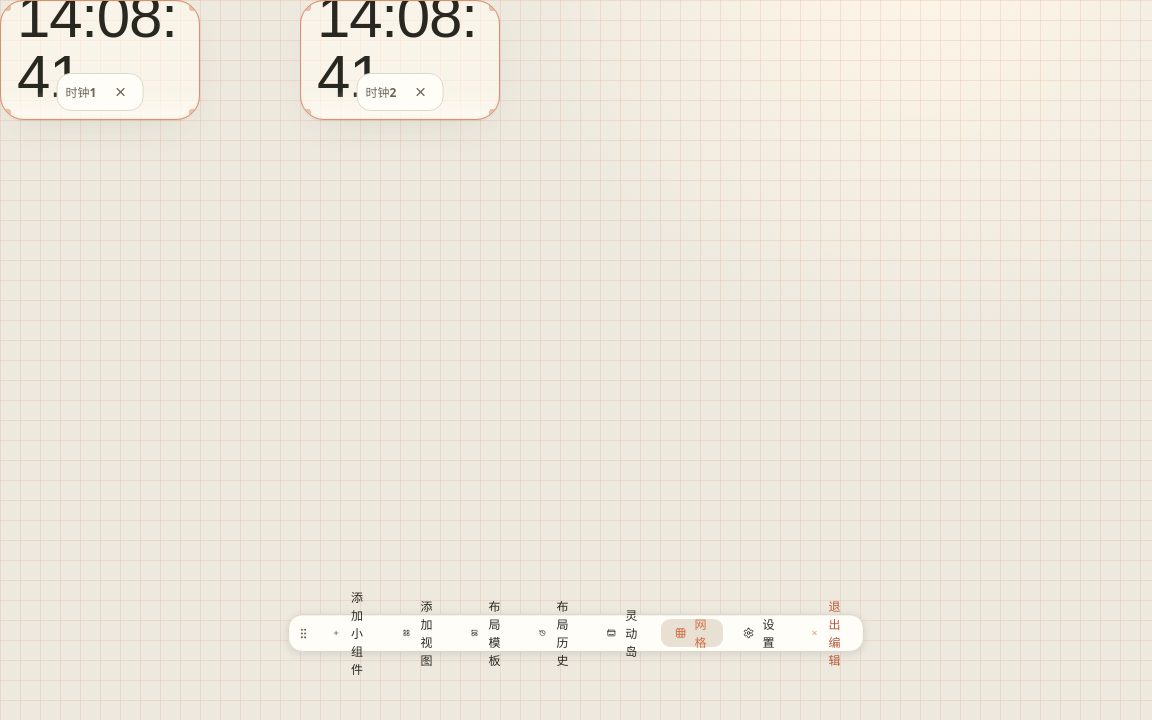
Test: 编辑工具栏弹层治理 › 模板名称输入：IME 组词期 Enter 不提交，普通 Enter 保存模板
Click the button "布局模板".
click(488, 633)  # box top-left (457, 619), bottom-right (519, 647)
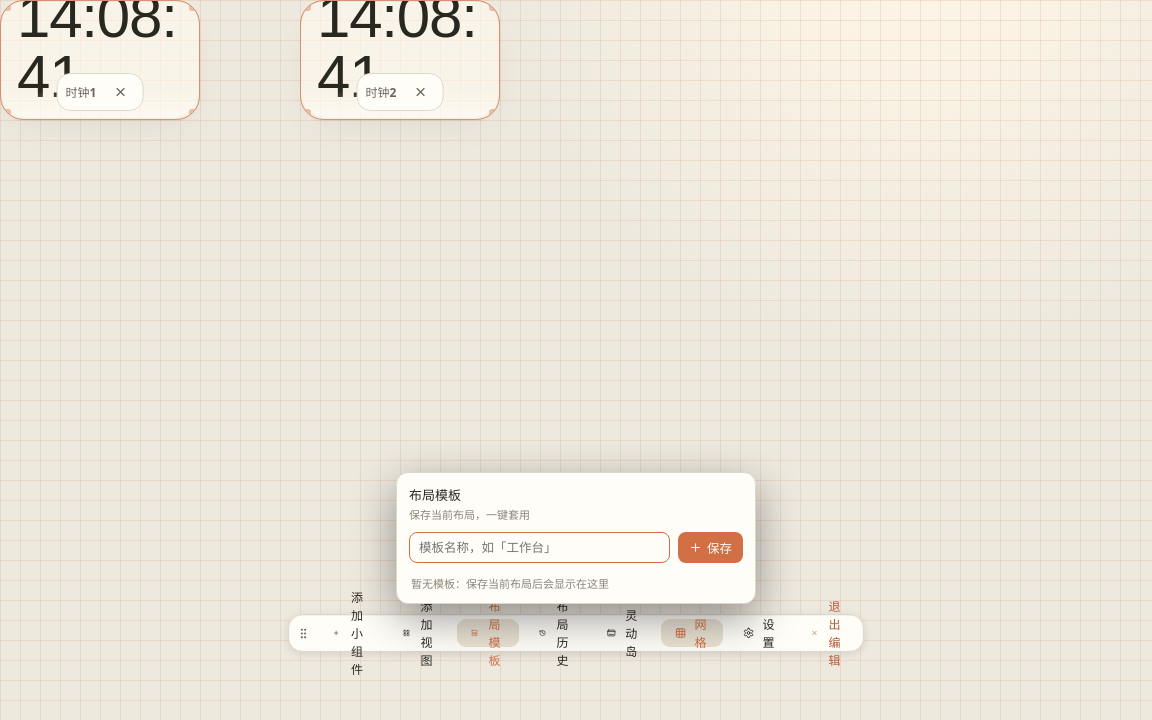
Expected: the dialog "布局模板" is shown, top-left (396, 472), bottom-right (756, 604)
Type "工作台" into the field with placeholder "模板名称，如「工作台」".
click(540, 548); type("工作台")  # box top-left (409, 532), bottom-right (670, 563)
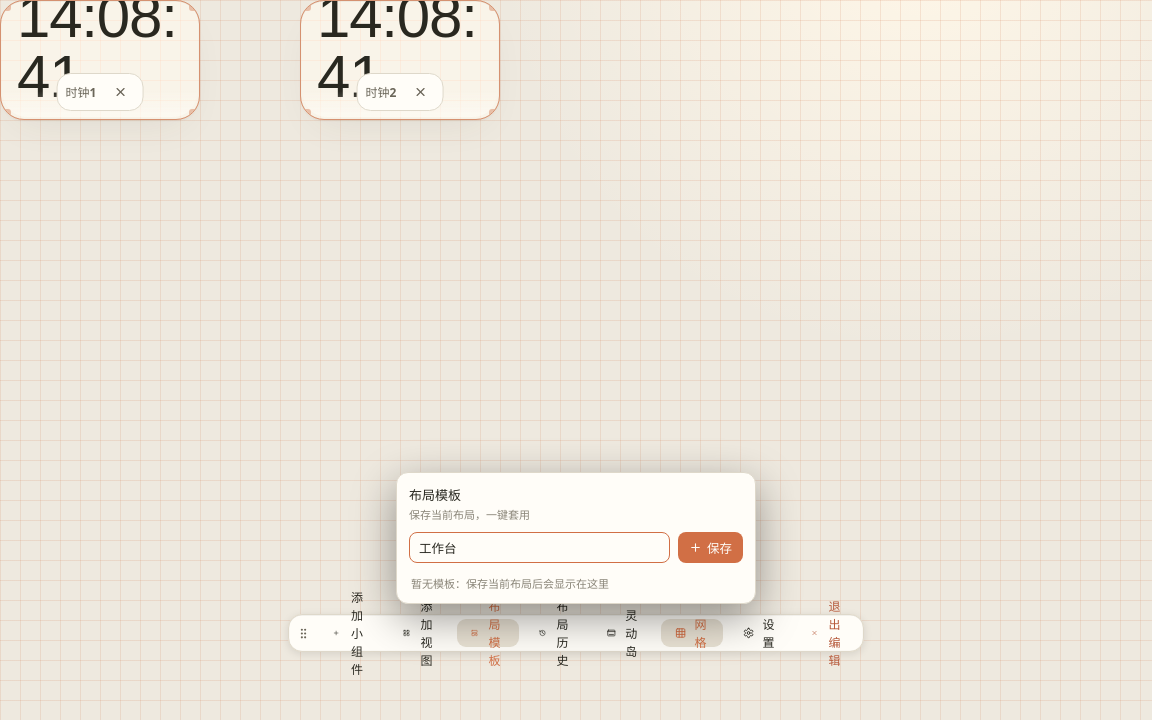
Press Enter in the field named "模板名称", box top-left (409, 532), bottom-right (670, 563)
Press Enter in the field named "模板名称", box top-left (409, 532), bottom-right (670, 563)
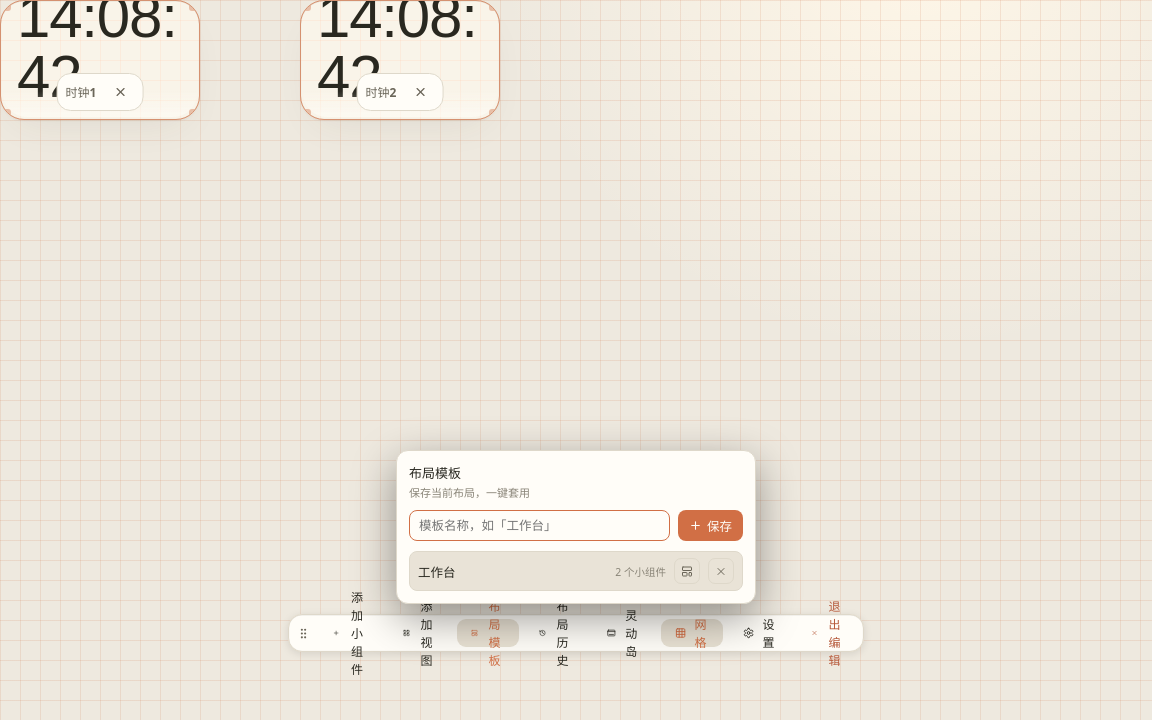
Expected: the text "工作台" is shown, top-left (418, 564), bottom-right (456, 580)
